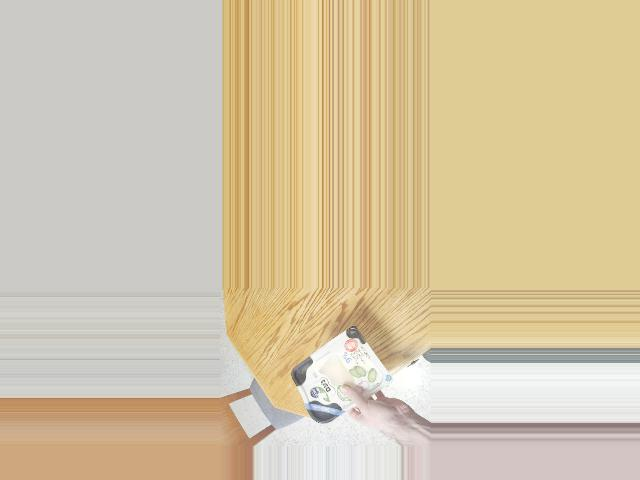cheese: (295, 332, 376, 429)
